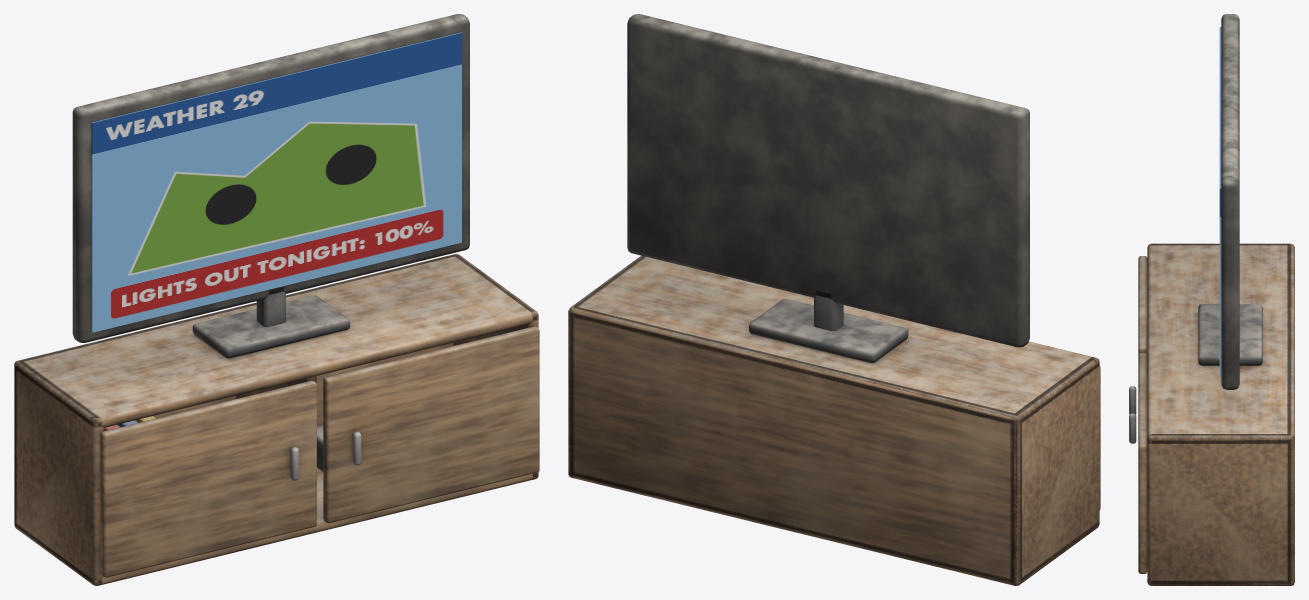
The model's file is tv_stand.fbx.
3 views of the same model, side by side, from view 1: azimuth 30°, elevation 25°; view 2: azimuth 150°, elevation 25°; view 3: azimuth 270°, elevation 25° (orthographic). The views are drawn at different scales.
Parts seen in each view (by area): view 1: Screen, Body, DoorR, DoorL; view 2: Body; view 3: Body, DoorR, DoorL, Screen.
Part boxes in pixels (x1,y1,x2,y2): Screen: [91, 32, 461, 332]; Body: [14, 14, 538, 585]; DoorR: [323, 326, 539, 523]; DoorL: [100, 380, 316, 577]; Body: [568, 14, 1099, 585]; Body: [1147, 14, 1294, 585]; DoorR: [1129, 353, 1147, 573]; DoorL: [1129, 256, 1147, 414]; Screen: [1219, 27, 1221, 376].
Size of the model in its own units: 5 by 4.7 by 1.8.
2 materials, 2 textured.
